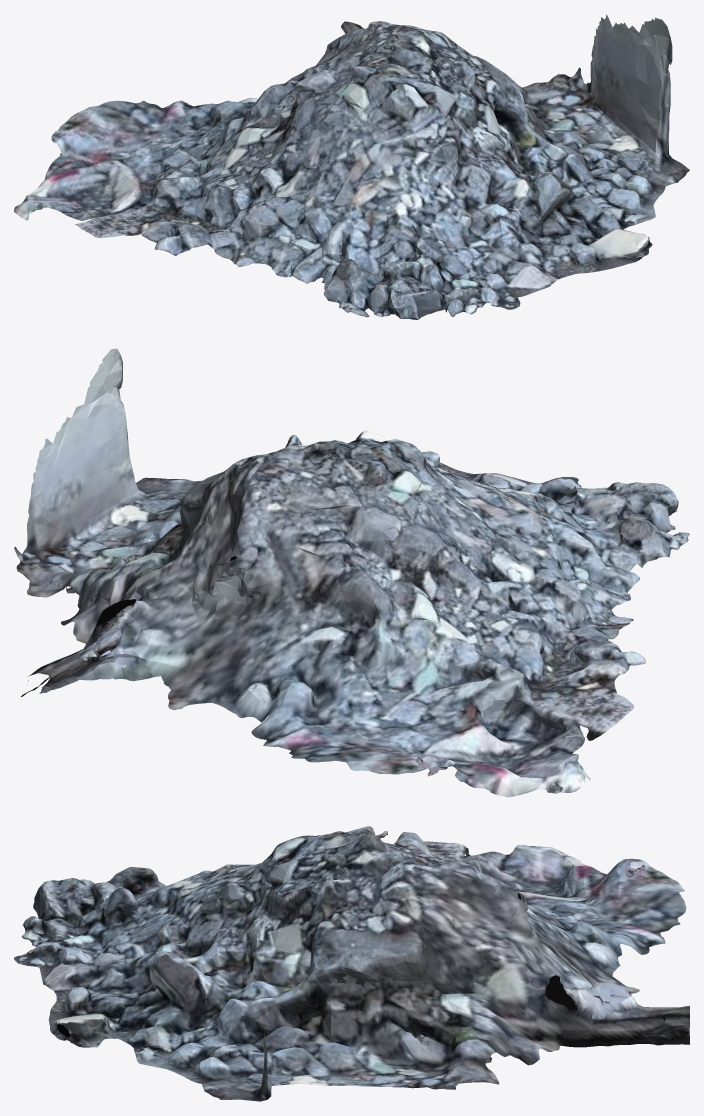
3 views of the same model, one above another, from view 1: azimuth 30°, elevation 25°; view 2: azimuth 150°, elevation 25°; view 3: azimuth 270°, elevation 25° (orthographic). The views are drawn at different scales.
Visible parts, largest first — view 1: Object_4; view 2: Object_4; view 3: Object_4.
Part boxes in pixels (x1,y1,x2,y2): Object_4: (14, 14, 689, 319); Object_4: (14, 348, 689, 797); Object_4: (14, 826, 689, 1101).
Size of the model in its own units: 2.41 by 0.7378 by 2.47.
1 material, 1 textured.
